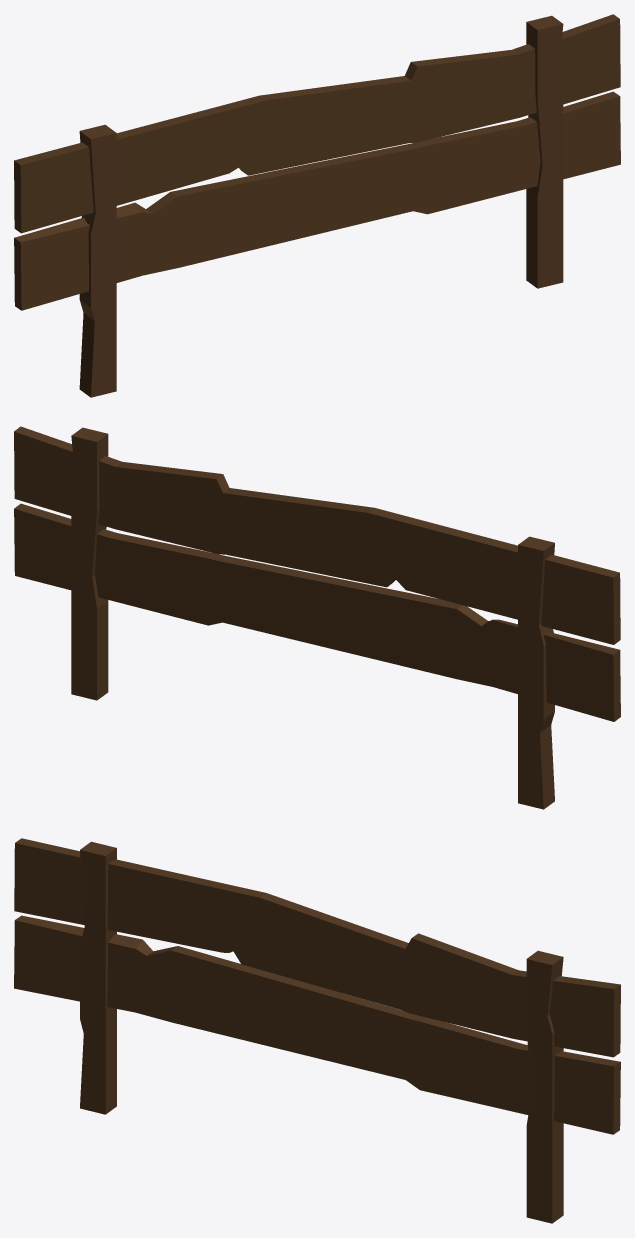
The model's file is fence.glb.
3 renders of one model, top to bottom at view 1: azimuth 30°, elevation 25°; view 2: azimuth 150°, elevation 25°; view 3: azimuth 330°, elevation 25°, orthographic.
Parts seen in each view (by area): view 1: Fence; view 2: Fence; view 3: Fence.
Part boxes in pixels (x1=…): Fence: x1=14, y1=14, x2=620, y2=397; Fence: x1=14, y1=426, x2=620, y2=809; Fence: x1=14, y1=838, x2=620, y2=1223.
Size of the model in its own units: 0.791 by 0.326 by 0.0259.
